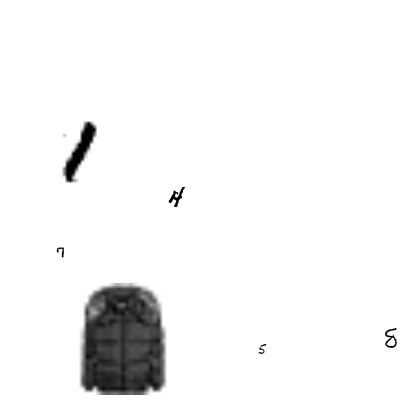1: (36, 107, 120, 191)
4: (162, 183, 190, 211)
5: (255, 342, 269, 356)
7: (54, 244, 68, 258)
8: (376, 324, 404, 352)
Coat: (65, 283, 177, 395)
